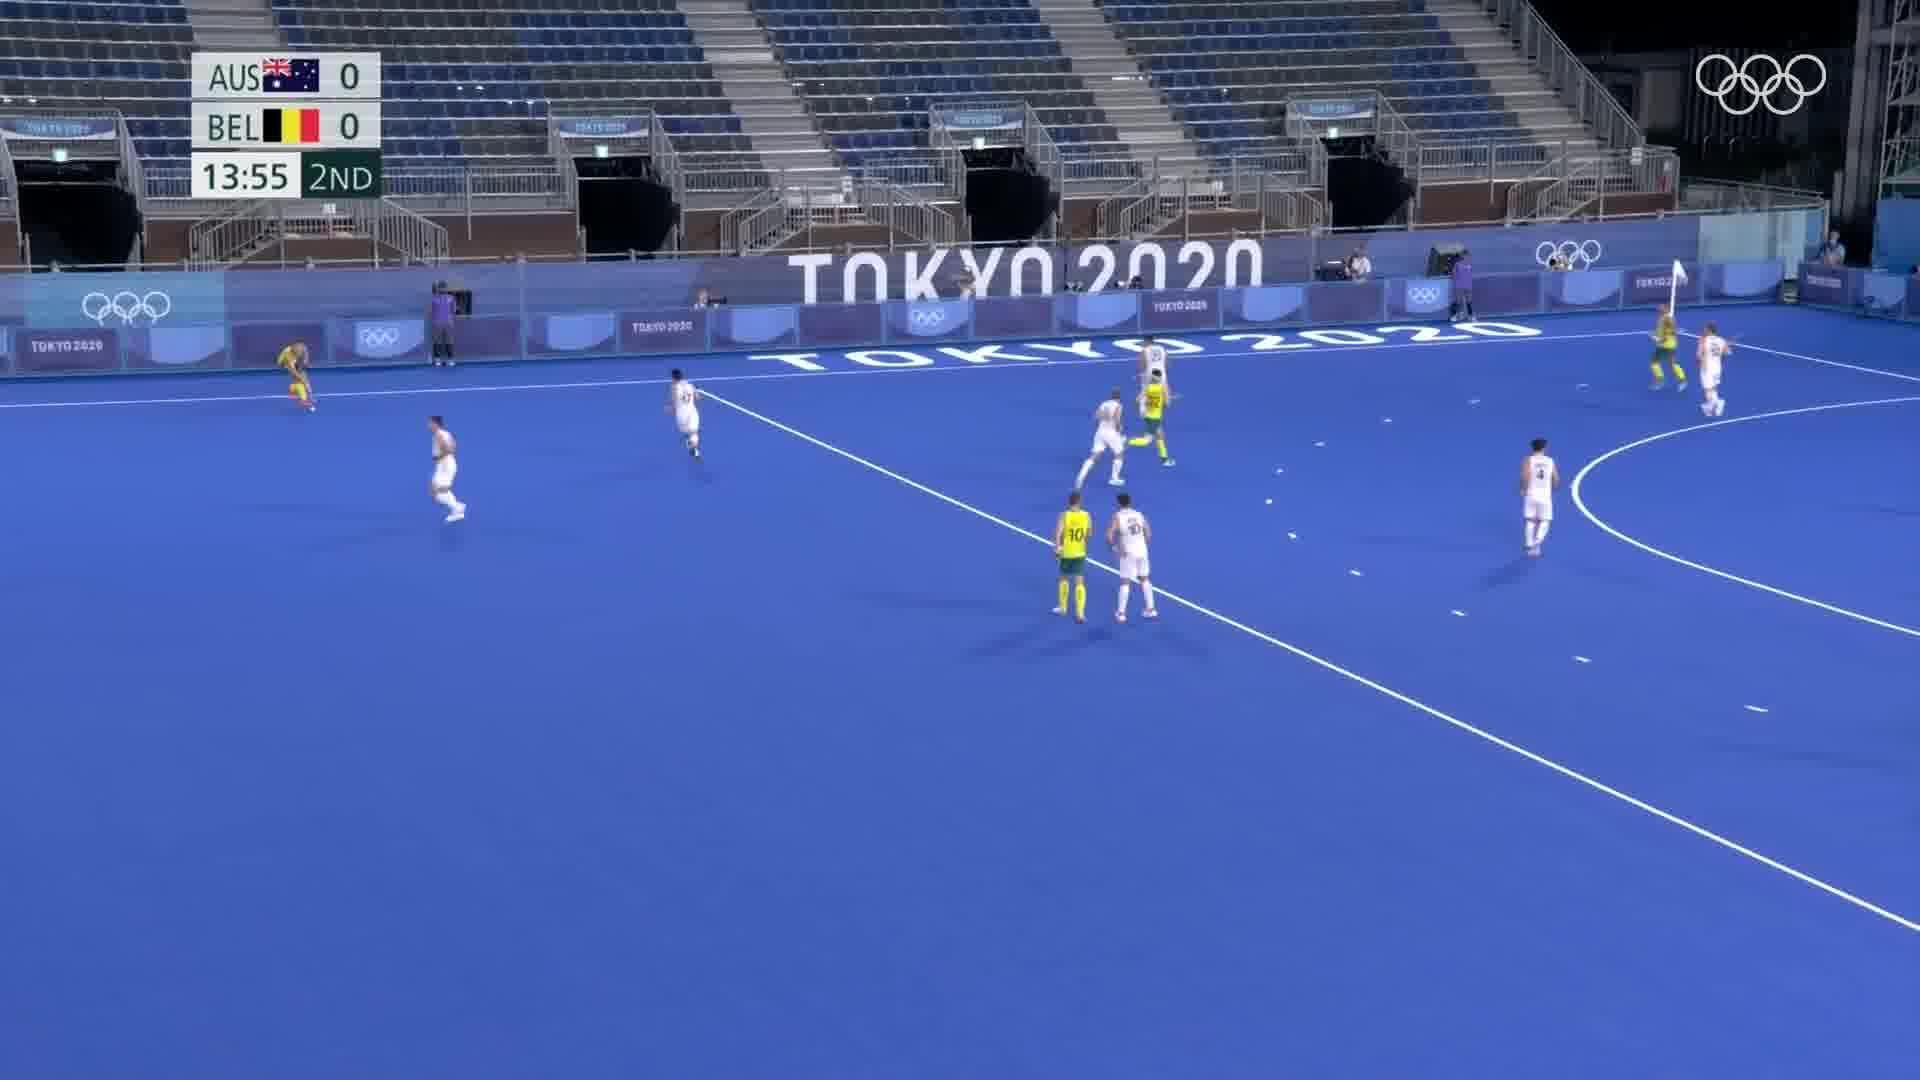ball: (305, 402, 318, 415)
